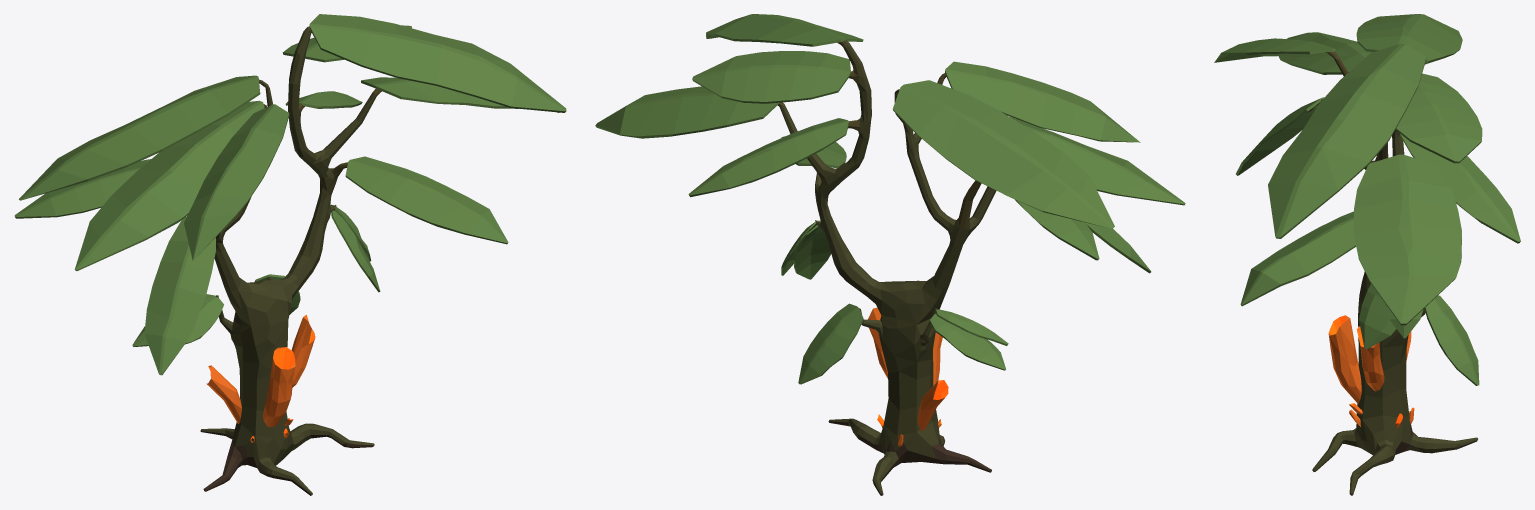
The model's file is SM_Tree_001.glb.
The picture shows the model from 3 angles, left to right: view 1: azimuth 30°, elevation 25°; view 2: azimuth 150°, elevation 25°; view 3: azimuth 270°, elevation 25°; orthographic projection. The views are drawn at different scales.
Visible parts, largest first — view 1: SM_Tree_001; view 2: SM_Tree_001; view 3: SM_Tree_001.
Boxes of the visible parts, x1,y1,x2,y2 form: SM_Tree_001: (14, 14, 566, 495); SM_Tree_001: (595, 14, 1185, 495); SM_Tree_001: (1214, 14, 1520, 495).
Size of the model in its own units: 10.54 by 8.04 by 4.98.
Materials: 2 (1 with a texture image).
